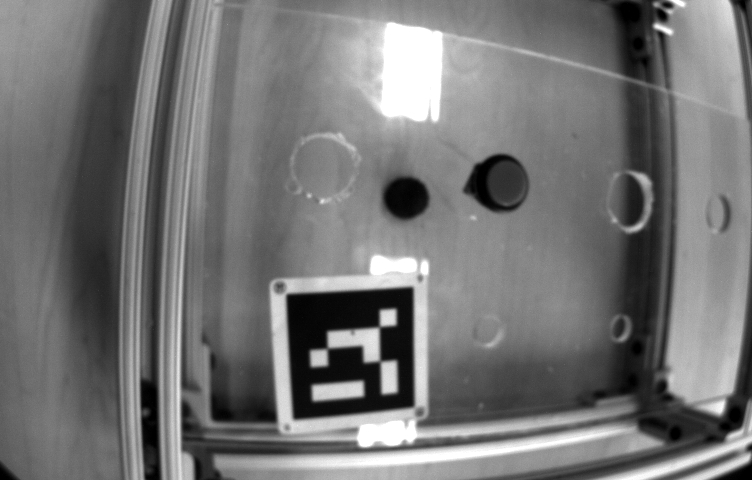dull_green_button: (466, 137, 555, 222)
